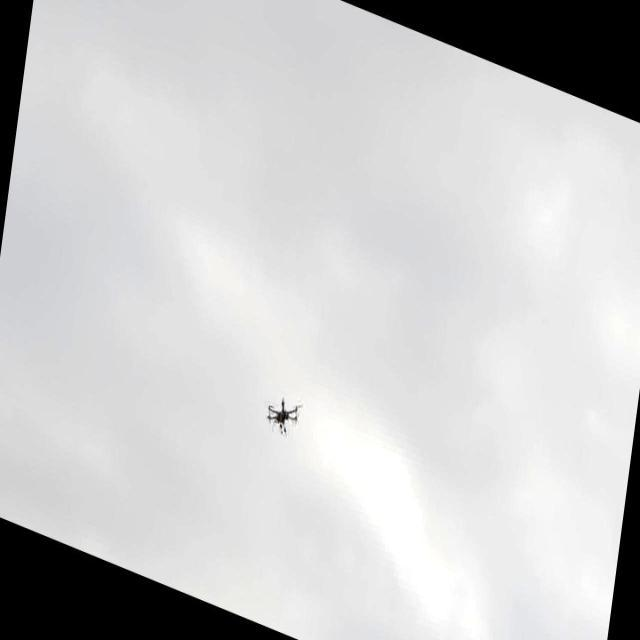drone: (264, 386, 304, 442)
